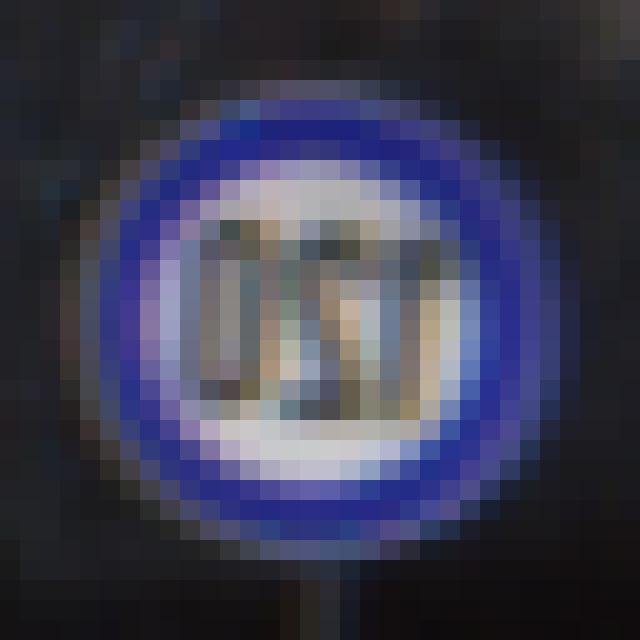SPEED LIMIT 120: (72, 85, 560, 558)
